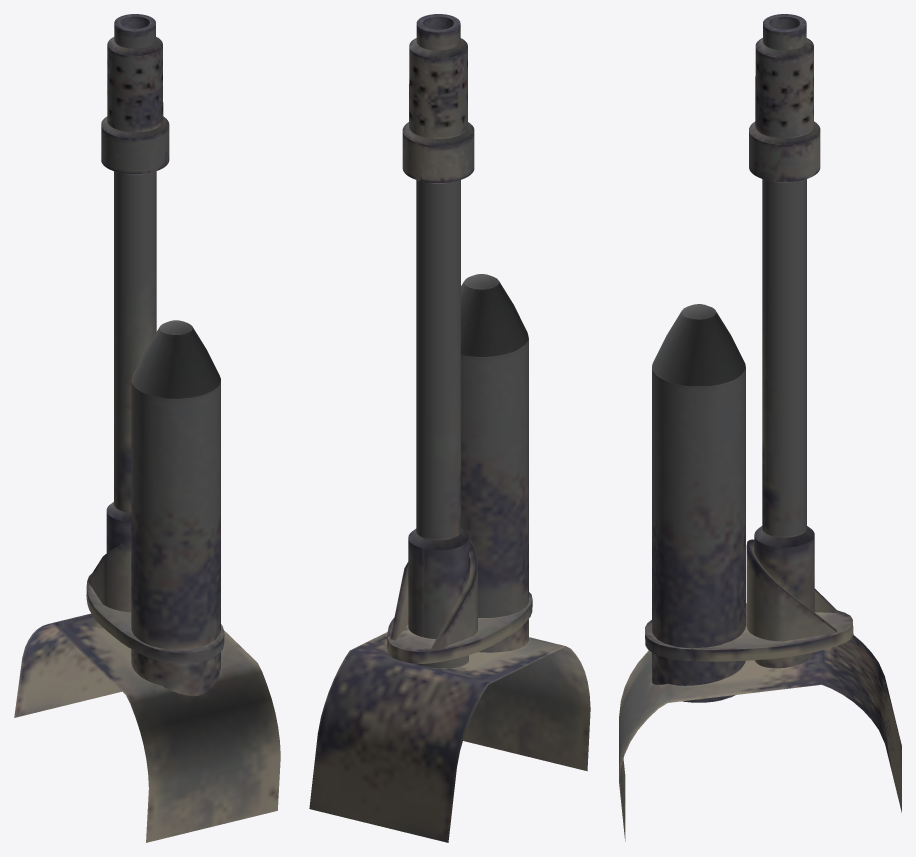
The model's file is Gun_02.glb.
3 views of the same model, side by side, from view 1: azimuth 30°, elevation 25°; view 2: azimuth 150°, elevation 25°; view 3: azimuth 270°, elevation 25° (orthographic). The views are drawn at different scales.
Visible parts, largest first — view 1: set_0_group_0; view 2: set_0_group_0; view 3: set_0_group_0.
Part boxes in pixels (left/top/right/bottom): set_0_group_0: left=14, top=14, right=280, bottom=842; set_0_group_0: left=309, top=14, right=590, bottom=842; set_0_group_0: left=619, top=14, right=901, bottom=841.
Size of the model in its own units: 0.2208 by 1.2 by 0.3907.
Materials: 1 (1 with a texture image).
